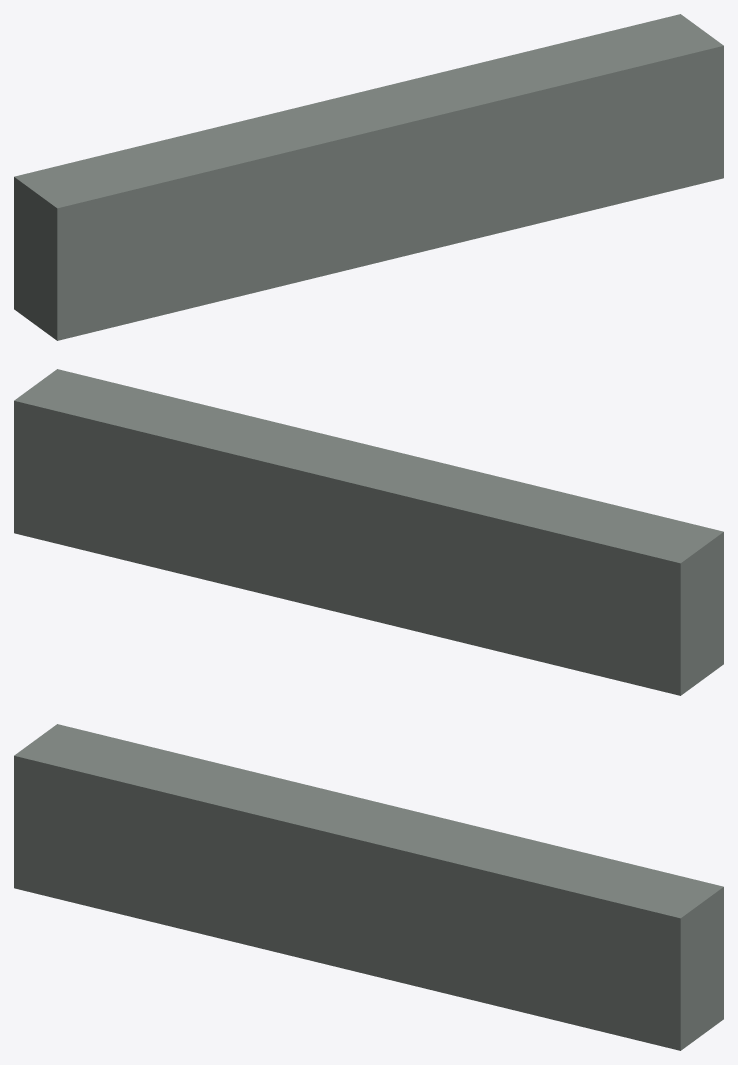
The model's file is edge.fbx.
3 views of the same model, one above another, from view 1: azimuth 30°, elevation 25°; view 2: azimuth 150°, elevation 25°; view 3: azimuth 330°, elevation 25° (orthographic).
Visible parts, largest first — view 1: edge_VISUAL; view 2: edge_VISUAL; view 3: edge_VISUAL.
Part boxes in pixels (x1=…): edge_VISUAL: x1=14, y1=14, x2=723, y2=340; edge_VISUAL: x1=14, y1=369, x2=723, y2=695; edge_VISUAL: x1=14, y1=724, x2=723, y2=1050.
Size of what is drawn, in the model's own units: 1429 by 271 by 161.
Materials: 1 (1 with a texture image).
